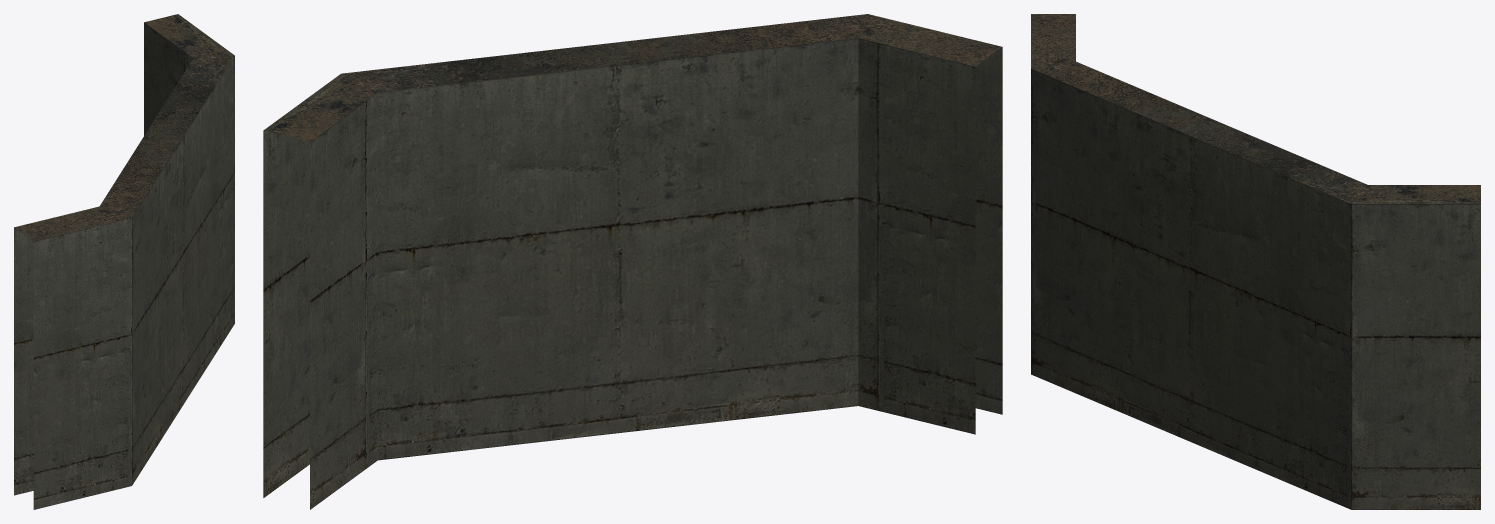
File: wall_rg_1_m1a_1.dae
3 views of the same model, side by side, from view 1: azimuth 30°, elevation 25°; view 2: azimuth 150°, elevation 25°; view 3: azimuth 270°, elevation 25° (orthographic). The views are drawn at different scales.
Parts seen in each view (by area): view 1: wall_rg_1_m1a_1; view 2: wall_rg_1_m1a_1; view 3: wall_rg_1_m1a_1.
Part boxes in pixels (left/top/right/bottom): wall_rg_1_m1a_1: left=14, top=14, right=234, bottom=509; wall_rg_1_m1a_1: left=263, top=14, right=1002, bottom=509; wall_rg_1_m1a_1: left=1031, top=14, right=1480, bottom=509.
Size of the model in its own units: 4 by 4 by 3.
2 materials, 2 textured.
